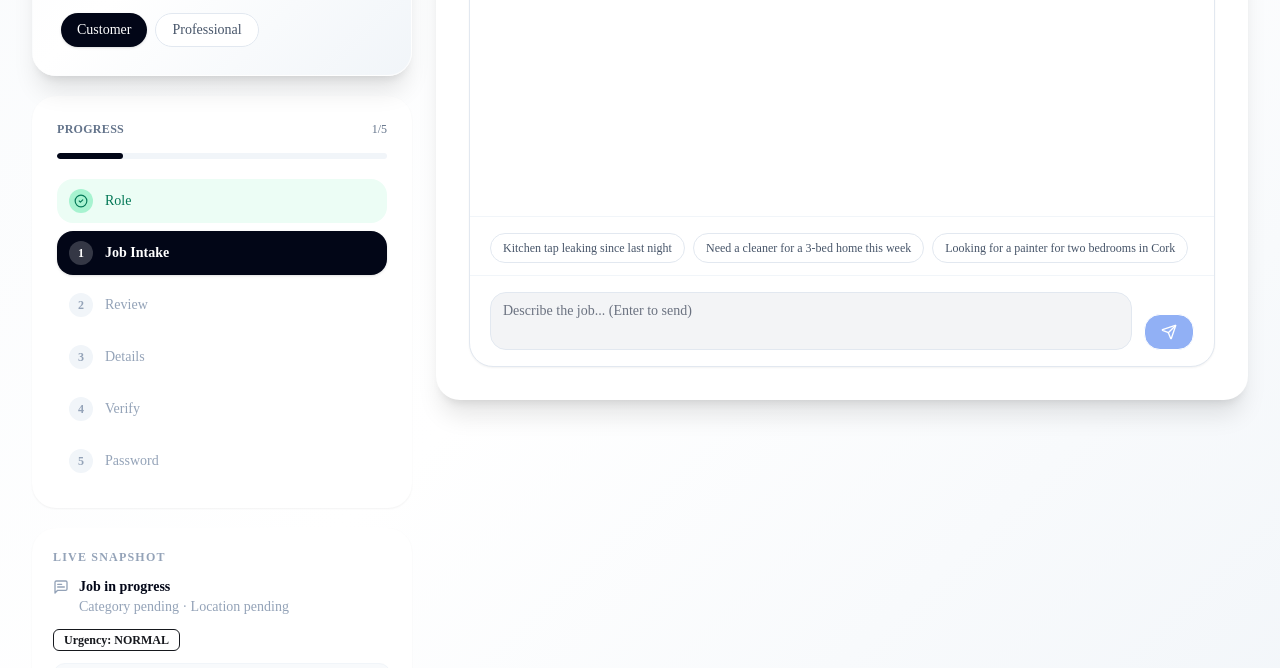
Scenario: RoleAwareOnboarding › boots a customer session and advances from AI intake into review
(page scrolled)
Type "My kitchen tap is leaking badly in Dublin 8." into the text box with placeholder "Describe the job... (Enter to send)". click: (811, 321)
box: [490,292,1132,350]
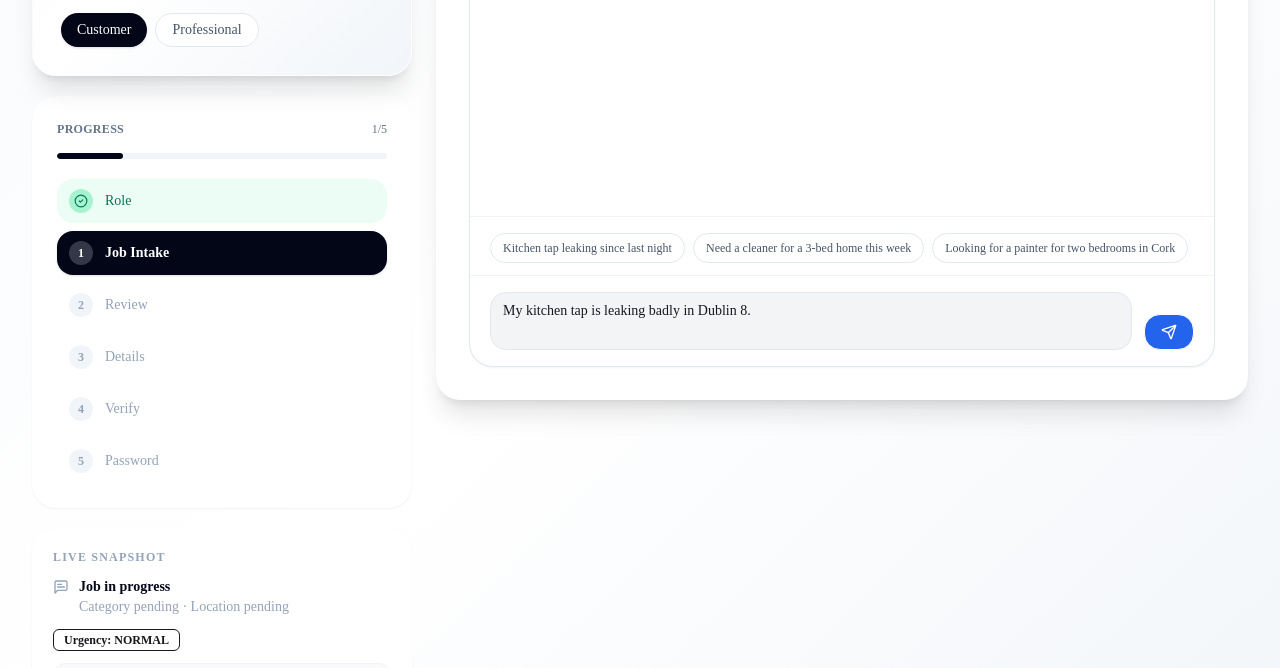
// Send button uses an icon (Send from lucide-react) with no text
Click the 6th button. click: (1169, 332)
box: [1144,314,1194,350]
(page scrolled)
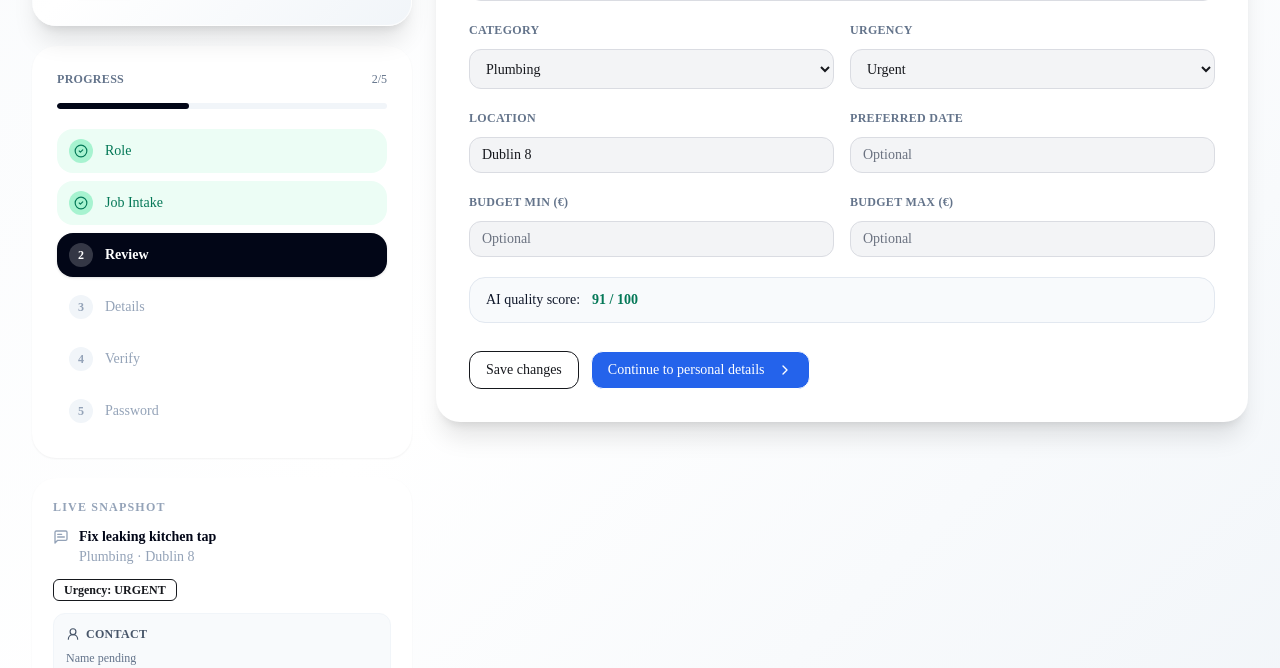
Expected: the button "Continue to personal details" is shown, [591,351,810,389]
